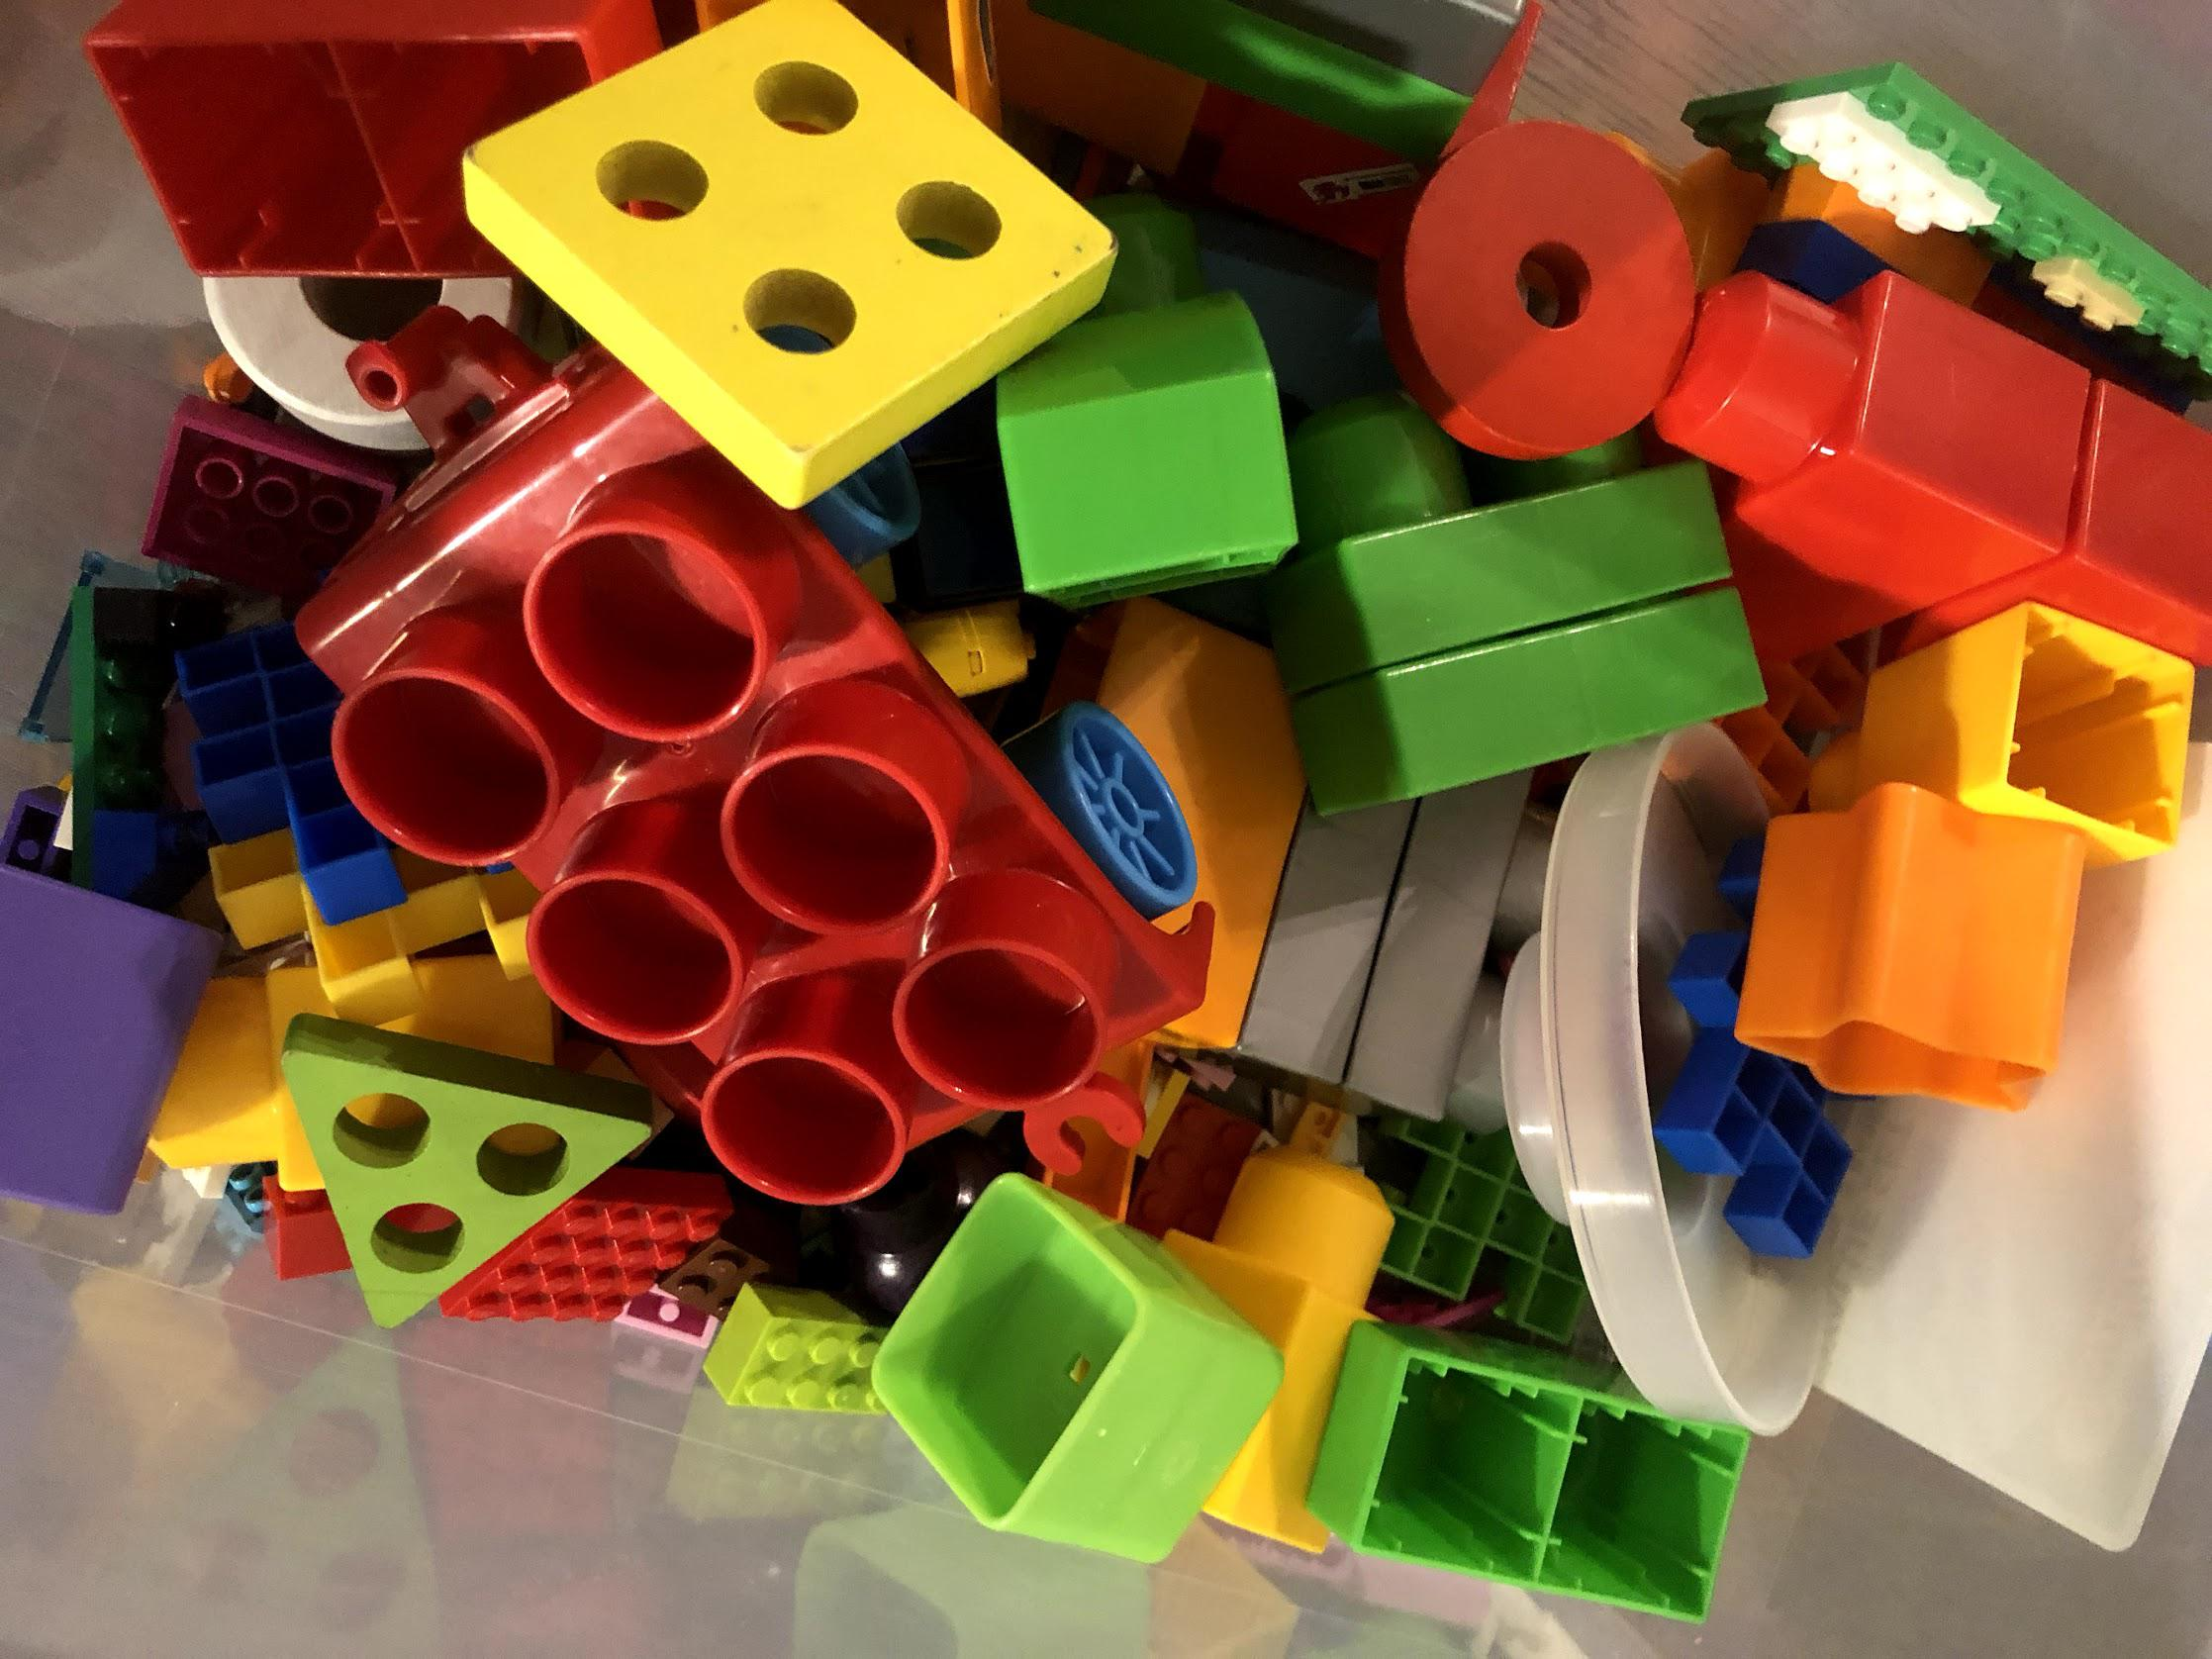Square: (462, 0, 1122, 514)
Triangle: (273, 1021, 658, 1335)
